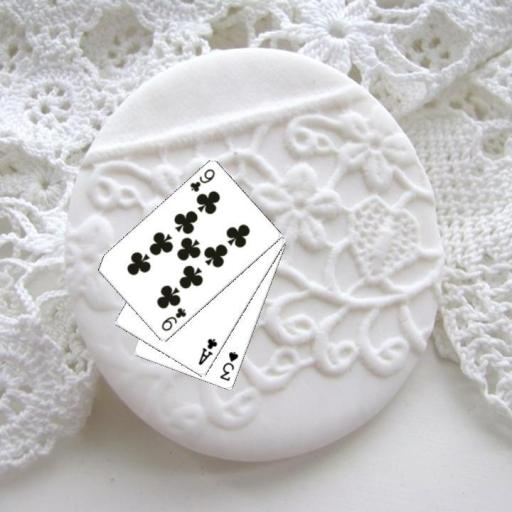3S: (217, 349, 240, 383)
9C: (158, 304, 188, 333), (186, 166, 216, 194)
AC: (195, 336, 219, 367)
